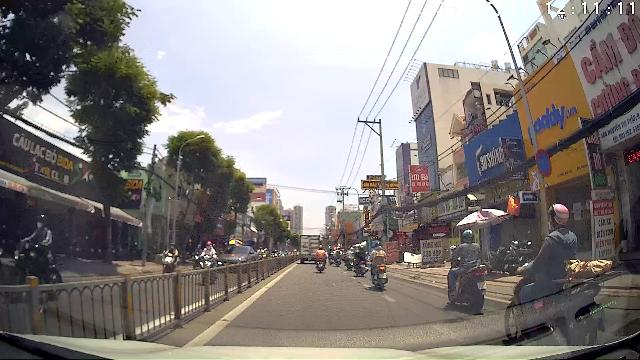131a-cam-do-xe: (536, 149, 552, 177)
